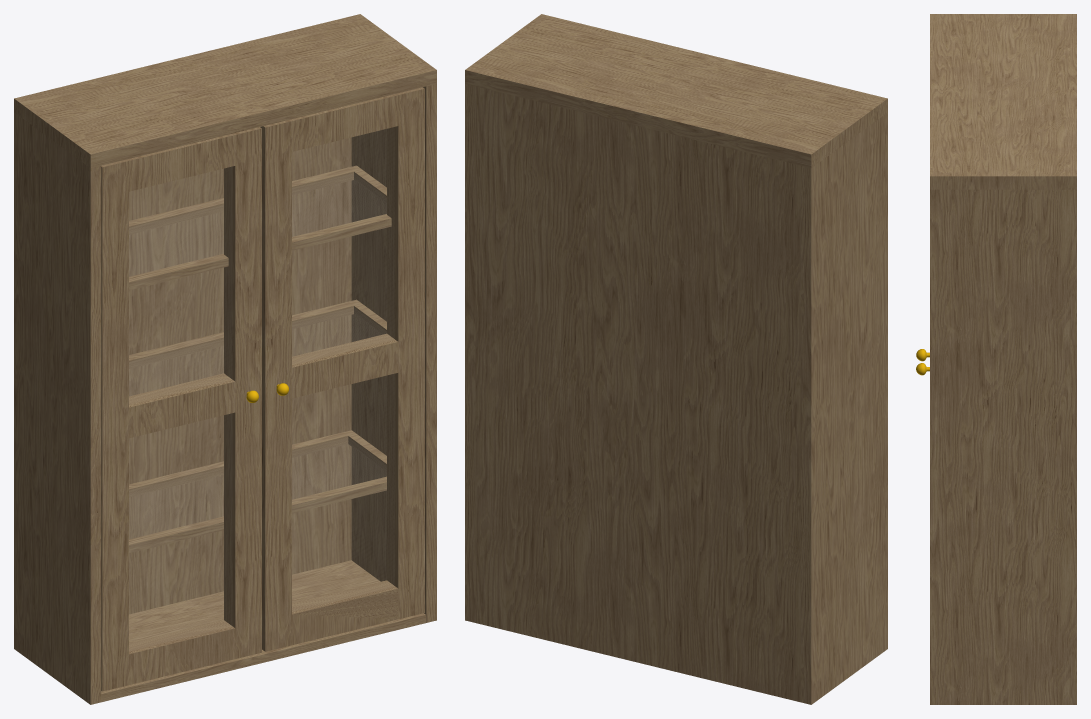
File: closet.glb
The picture shows the model from 3 angles, left to right: view 1: azimuth 30°, elevation 25°; view 2: azimuth 150°, elevation 25°; view 3: azimuth 270°, elevation 25°; orthographic projection. The views are drawn at different scales.
Parts seen in each view (by area): view 1: Back, Left, RightDoor, LeftDoor, Top, Right, Bottom, Shelf3.005, Shelf3.002, Shelf3.003; view 2: Back, Left, Top, Right; view 3: Right, Top.
Part boxes in pixels (x1=…): Back: x1=129, y1=137, x2=351, y2=614; Left: x1=14, y1=112, x2=101, y2=704; RightDoor: x1=260, y1=87, x2=424, y2=651; LeftDoor: x1=101, y1=127, x2=261, y2=691; Top: x1=14, y1=14, x2=436, y2=168; Right: x1=351, y1=84, x2=436, y2=622; Bottom: x1=101, y1=560, x2=425, y2=702; Shelf3.005: x1=129, y1=165, x2=391, y2=290; Shelf3.002: x1=129, y1=430, x2=386, y2=553; Shelf3.003: x1=129, y1=299, x2=386, y2=368; Back: x1=475, y1=86, x2=800, y2=702; Left: x1=800, y1=112, x2=887, y2=704; Top: x1=465, y1=14, x2=887, y2=168; Right: x1=465, y1=84, x2=475, y2=622; Right: x1=930, y1=189, x2=1076, y2=704; Top: x1=930, y1=14, x2=1076, y2=189.
Size of the model in its own units: 0.81 by 1.23 by 0.3391.
Materials: 3 (2 with a texture image).
